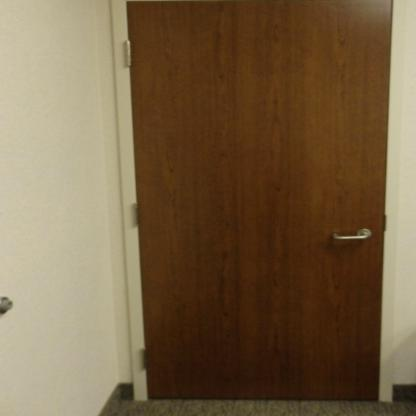door: (130, 0, 392, 402)
hinged: (121, 40, 136, 69), (131, 200, 145, 227), (142, 347, 152, 371)
lever: (334, 232, 374, 244)
